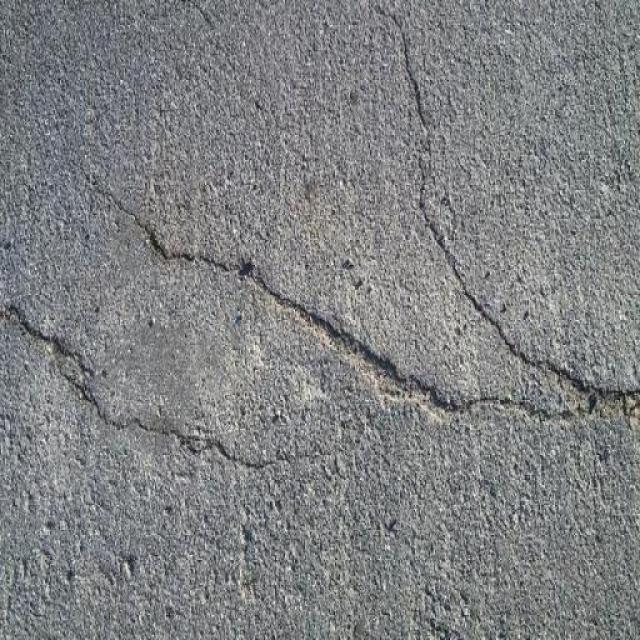Crack: (95, 186, 640, 440), (375, 7, 640, 418), (1, 281, 342, 480)
